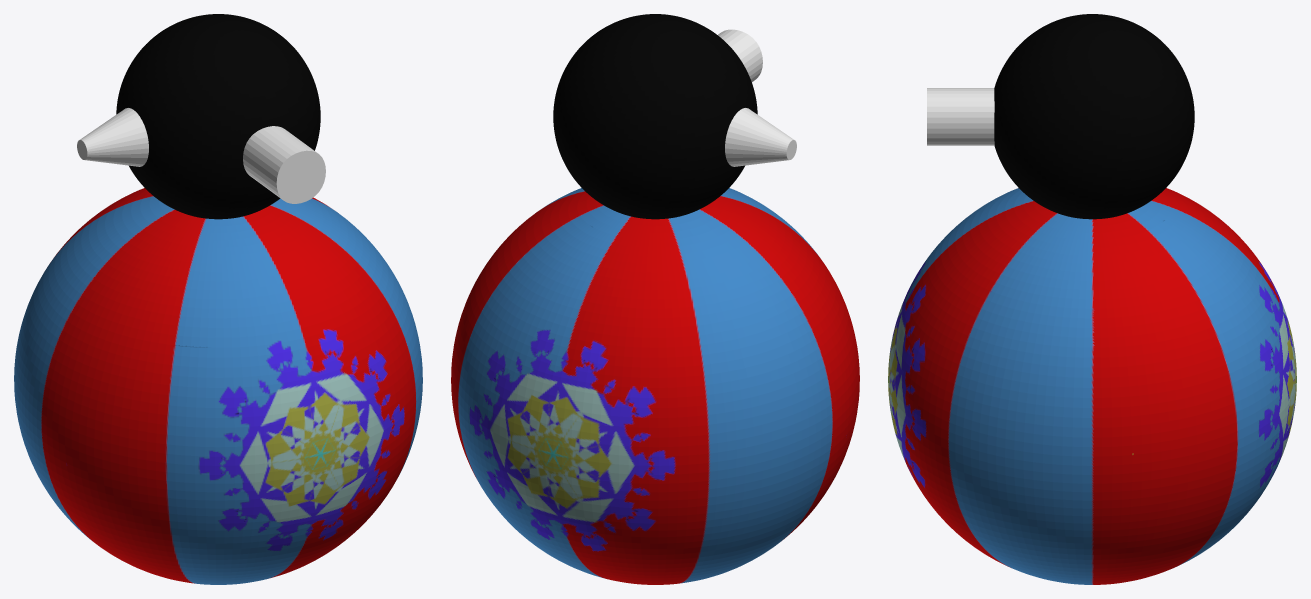
File: BOD0_BMC8_BCC4_BPT2_FRC14_HEA0_HMC1_HCC1_HPT4_ELT2_ERT0_ELL0_ERL2_AP0_AAL0_AAR2_BEK1.fbx
The picture shows the model from 3 angles, left to right: view 1: azimuth 30°, elevation 25°; view 2: azimuth 150°, elevation 25°; view 3: azimuth 270°, elevation 25°; orthographic projection.
Parts seen in each view (by area): view 1: Body, Beak, Ear; view 2: Body, Ear, Beak; view 3: Body, Beak.
Part boxes in pixels (left/top/right/bottom): Body: left=14, top=14, right=422, bottom=584; Beak: left=243, top=126, right=325, bottom=203; Ear: left=77, top=108, right=148, bottom=166; Body: left=451, top=14, right=859, bottom=584; Ear: left=725, top=108, right=796, bottom=166; Beak: left=718, top=29, right=762, bottom=81; Body: left=888, top=14, right=1296, bottom=584; Beak: left=927, top=88, right=994, bottom=145.
Bounding box in the file's own units: 49.36 × 72.41 × 49.36.
1 material, 1 textured.
